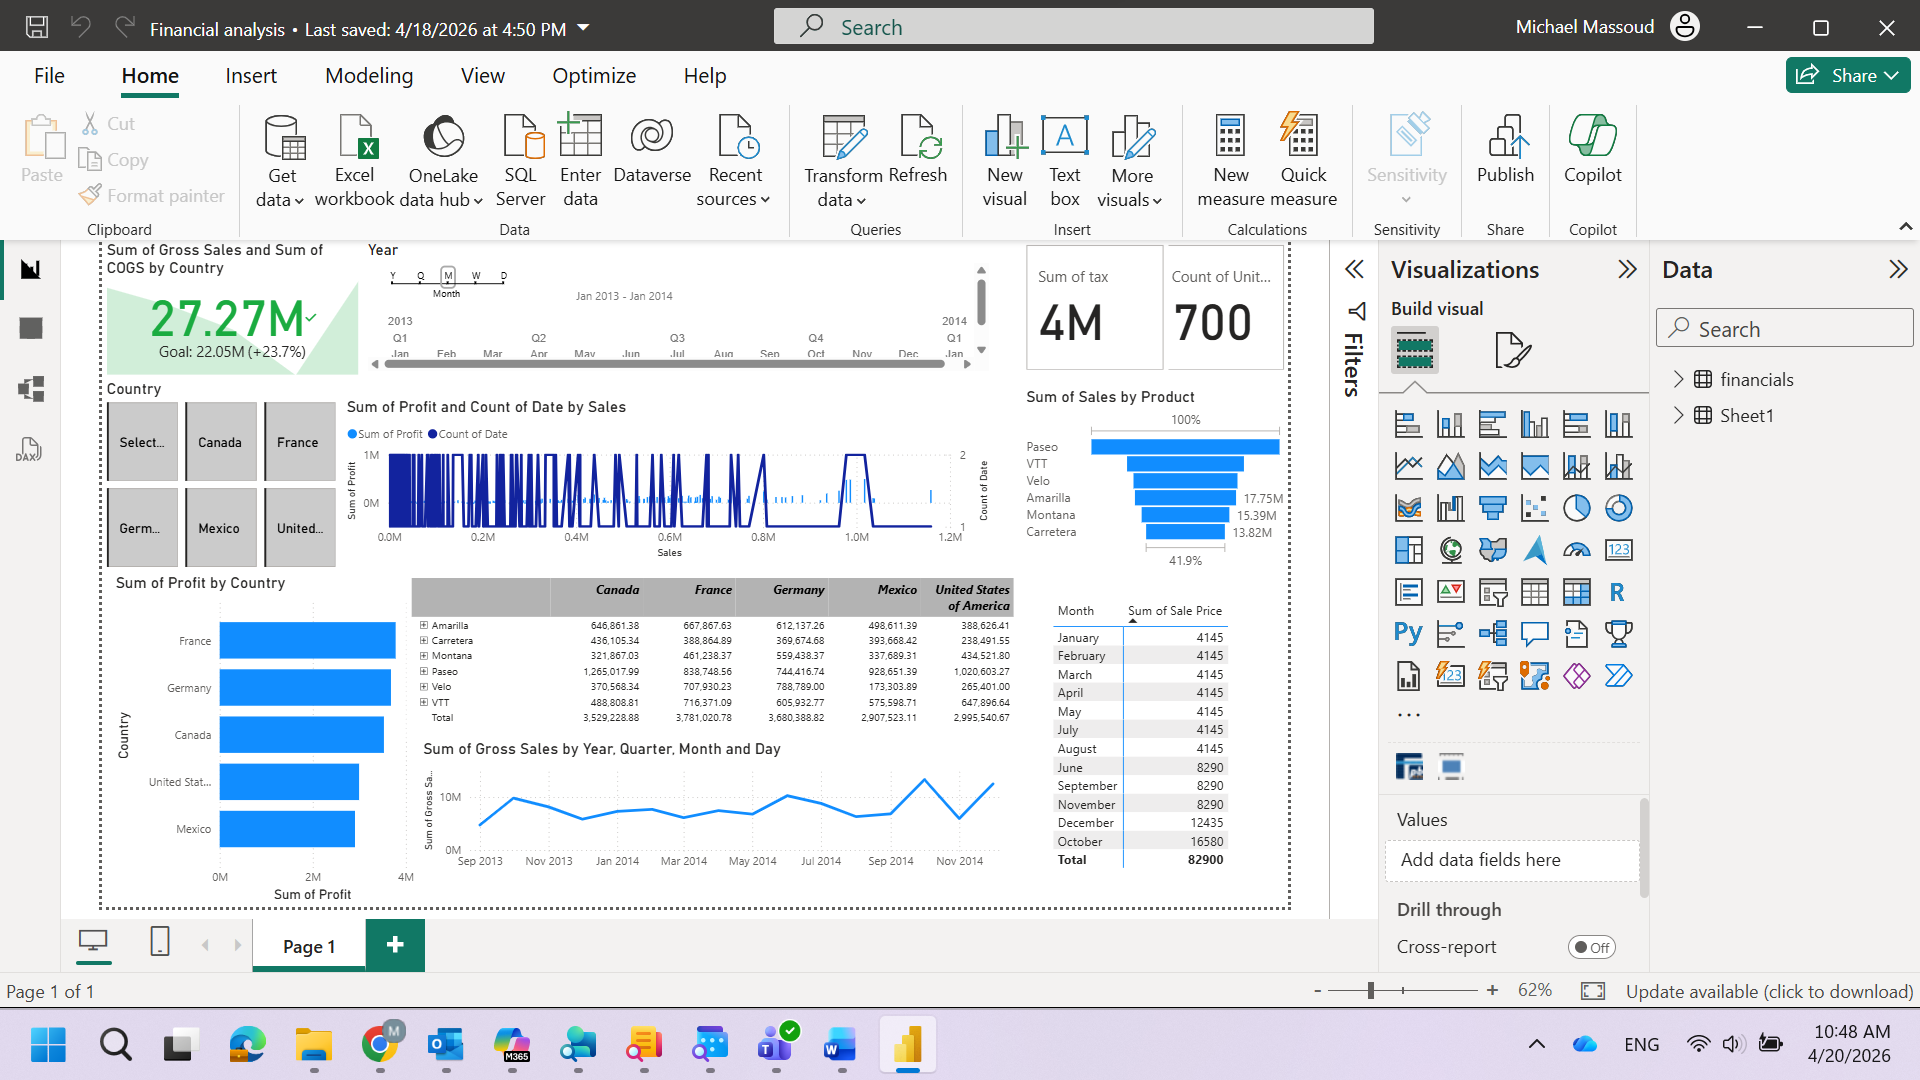

What the dashboard file says about the page in this screenshot:
{"tool":"powerbi","page":{"name":"Page 1","canvas":[1280,720],"ordinal":0},"visuals":[{"type":"barChart","fields":{"Category":["Sheet1.Country"],"Y":["Sum(Sheet1.Profit)"]},"box":[9.7,359.5,331.9,359.5],"z":0},{"type":"cardVisual","fields":{"Data":["CountNonNull(Sheet1.Units Sold)"]},"box":[1136.7,0,144.1,145.7],"z":1000},{"type":"cardVisual","fields":{"Data":["Sum(Sheet1.tax)"]},"box":[976.4,0,174.9,145.7],"z":2000},{"type":"pivotTable","fields":{"Rows":["financials.Segment","Sheet1.Date.Variation.Date Hierarchy.Year","Sheet1.Date.Variation.Date Hierarchy.Month"],"Values":["Sum(Sheet1.Sale Price)"]},"box":[1021.7,383.8,259.1,304.4],"z":3000},{"type":"Timeline1447991079100","fields":{"Time":["financials.Date.Variation.Date Hierarchy.Year"]},"box":[281.7,0,680.1,145.7],"z":4000},{"type":"funnel","fields":{"Category":["financials.Product"],"Y":["Sum(financials. Sales)"]},"box":[992.6,158.7,288.2,200.8],"z":6000},{"type":"financialreportingmatrixD8A502553641450F8EAEB9BA40B2166E","fields":{"Rows":["financials.Product","financials.Date.Variation.Date Hierarchy.Year","financials.Date.Variation.Date Hierarchy.Quarter"],"Columns":["financials.Country"],"Values":["Sum(financials.Profit)"]},"box":[328.7,359.5,663.9,179.7],"z":7000},{"type":"lineChart","fields":{"Category":["financials.Date.Variation.Date Hierarchy.Year","financials.Date.Variation.Date Hierarchy.Quarter","financials.Date.Variation.Date Hierarchy.Month","financials.Date.Variation.Date Hierarchy.Day"],"Y":["Sum(financials.Gross Sales)"]},"box":[341.7,539.2,650.9,149],"z":8000},{"type":"lineStackedColumnComboChart","fields":{"Category":["financials. Sales"],"Y":["Sum(financials.Profit)"],"Y2":["CountNonNull(financials.Date)"]},"box":[259.1,170,702.7,178.1],"z":9000},{"type":"kpi","fields":{"TrendLine":["financials.Country"],"Indicator":["Sum(financials.Gross Sales)"],"Goal":["Sum(Sheet1.COGS)"]},"box":[0,0,281.7,150.6],"z":10000},{"type":"advancedSlicerVisual","fields":{"Values":["financials.Discount Band"]},"box":[0,170,259,178],"z":10001}]}

Visuals, with their boxes on the page's 1280x720 design canvas (x1, y1, x2, y2). These are canvas units, not pixel positions in the 1920x1080 screenshot, which may show the page scaled, cropped or inside an application window:
barChart - Sheet1.Country x Sum(Sheet1.Profit): box(10, 360, 342, 719)
cardVisual - CountNonNull(Sheet1.Units Sold): box(1137, 0, 1281, 146)
cardVisual - Sum(Sheet1.tax): box(976, 0, 1151, 146)
pivotTable - financials.Segment x Sheet1.Date.Variation.Date Hierarchy.Year: box(1022, 384, 1281, 688)
Timeline1447991079100 - financials.Date.Variation.Date Hierarchy.Year: box(282, 0, 962, 146)
funnel - financials.Product x Sum(financials. Sales): box(993, 159, 1281, 360)
financialreportingmatrixD8A502553641450F8EAEB9BA40B2166E - financials.Product x financials.Date.Variation.Date Hierarchy.Year: box(329, 360, 993, 539)
lineChart - financials.Date.Variation.Date Hierarchy.Year x financials.Date.Variation.Date Hierarchy.Quarter: box(342, 539, 993, 688)
lineStackedColumnComboChart - financials. Sales x Sum(financials.Profit): box(259, 170, 962, 348)
kpi - financials.Country x Sum(financials.Gross Sales): box(0, 0, 282, 151)
advancedSlicerVisual - financials.Discount Band: box(0, 170, 259, 348)
